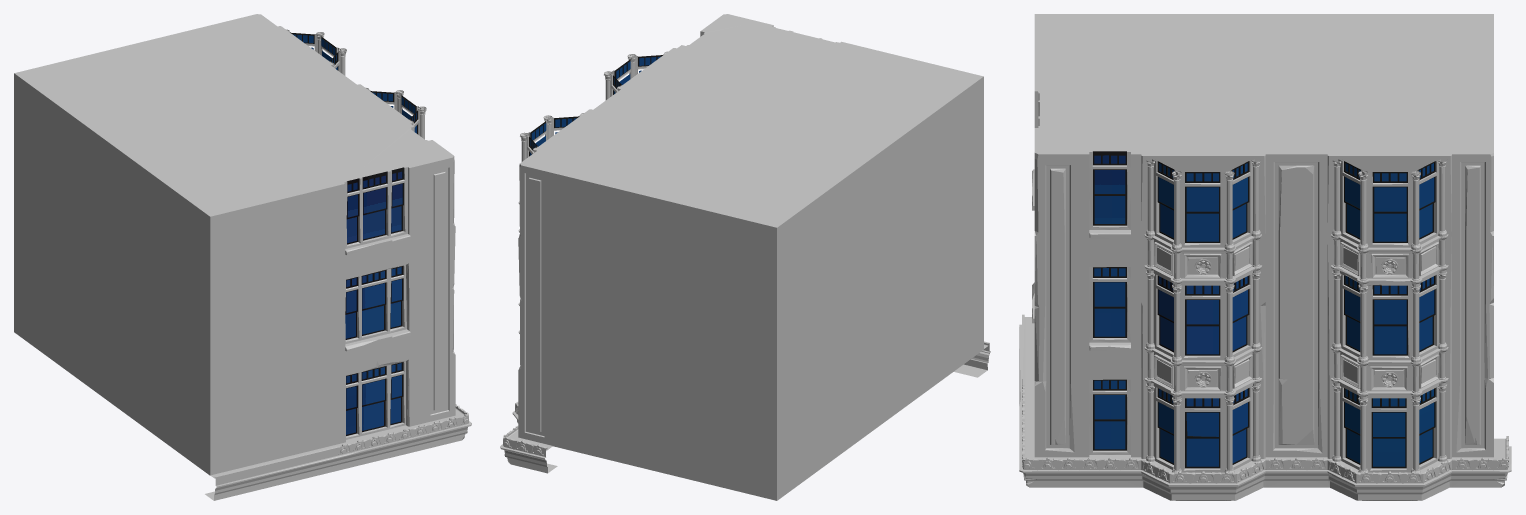
3 renders of one model, left to right at view 1: azimuth 30°, elevation 25°; view 2: azimuth 150°, elevation 25°; view 3: azimuth 270°, elevation 25°, orthographic. The views are drawn at different scales.
Parts seen in each view (by area): view 1: SM_Building_Facade_03a.mo; view 2: SM_Building_Facade_03a.mo; view 3: SM_Building_Facade_03a.mo.
Boxes of the visible parts, left/top/right/bottom form: SM_Building_Facade_03a.mo: left=14, top=14, right=471, bottom=500; SM_Building_Facade_03a.mo: left=500, top=14, right=990, bottom=500; SM_Building_Facade_03a.mo: left=1019, top=14, right=1511, bottom=500.
Size of the model in its own units: 916 by 878 by 1188.
